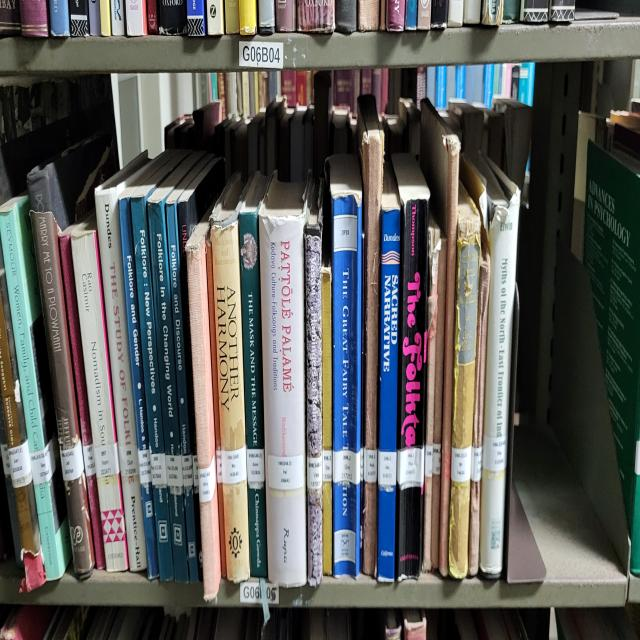Book: (0, 195, 71, 579), (30, 211, 95, 579), (95, 152, 149, 571), (71, 219, 129, 571), (259, 179, 306, 584), (479, 157, 520, 576), (131, 181, 174, 579), (210, 173, 250, 582), (0, 241, 46, 593), (149, 179, 189, 582), (59, 227, 105, 568), (394, 154, 429, 579), (329, 154, 362, 576), (166, 184, 200, 582), (186, 222, 221, 601), (449, 184, 481, 579), (358, 95, 384, 576), (239, 170, 269, 576), (378, 162, 401, 582), (119, 187, 151, 487), (439, 135, 460, 576), (469, 227, 490, 576), (305, 181, 322, 587), (422, 216, 441, 571), (431, 233, 446, 568), (321, 262, 332, 574)
Label: (268, 455, 305, 490), (398, 446, 425, 490), (30, 438, 55, 484), (9, 441, 32, 487), (332, 449, 361, 484), (60, 441, 84, 482), (221, 446, 246, 484), (94, 444, 119, 479), (482, 436, 506, 471), (199, 455, 216, 503), (451, 446, 471, 482), (378, 449, 396, 487), (246, 449, 265, 484), (119, 444, 139, 476), (165, 455, 182, 490), (150, 452, 166, 487), (364, 446, 378, 482), (308, 455, 322, 490), (138, 449, 151, 484), (82, 444, 96, 476), (181, 455, 194, 487), (471, 446, 482, 482), (322, 449, 332, 482), (432, 444, 441, 476), (425, 444, 434, 476), (216, 446, 222, 484)
